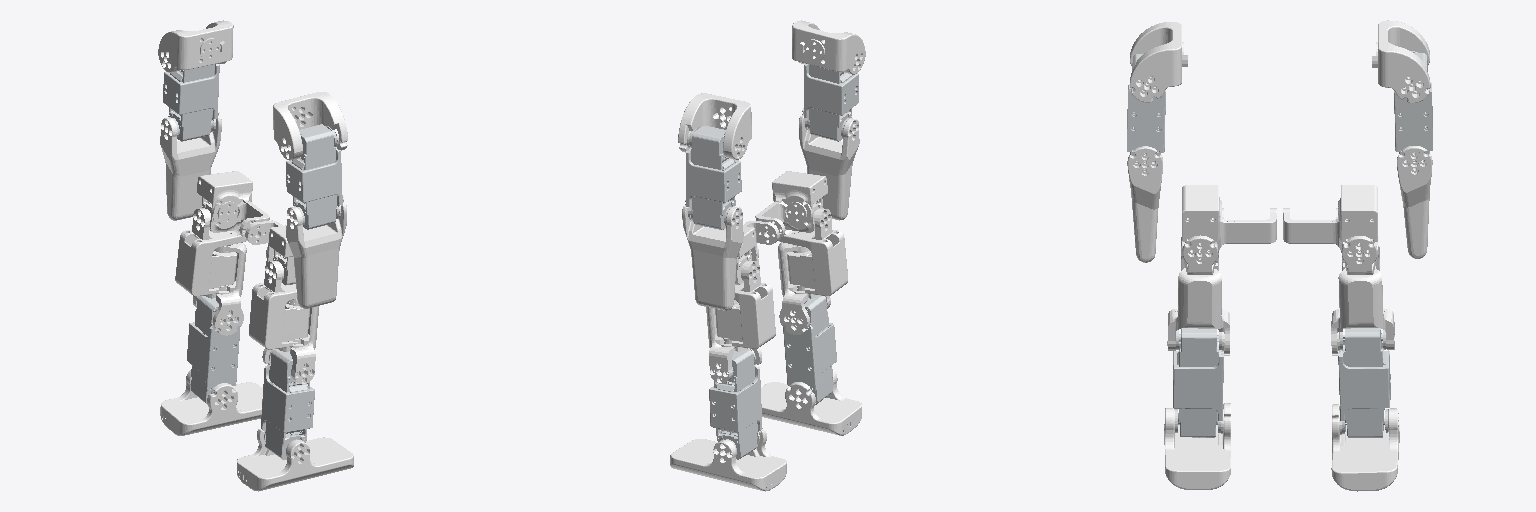
URDF robot description (zeroth01):
<?xml version="1.0" encoding="utf-8"?>
<!-- This URDF was automatically created by SolidWorks to URDF Exporter! Originally created by [author] ([email redacted]) 
     Commit Version: 1.6.0-4-g7f85cfe  Build Version: 1.6.7995.38578
     For more information, please see http://wiki.ros.org/sw_urdf_exporter -->
<robot
  name="zeroth01">
  <link
    name="base_link">
    <inertial>
      <origin
        xyz="0.01073 0.00074718 0.074998"
        rpy="0 0 0" />
      <mass
        value="1.20871" />
      <inertia
        ixx="0.0021088"
        ixy="4.1125E-06"
        ixz="-0.00013101"
        iyy="0.0011389"
        iyz="1.0735E-05"
        izz="0.0014787" />
    </inertial>
    <visual>
      <origin
        xyz="0 0 0"
        rpy="0 0 0" />
      <geometry>
        <mesh
          filename="meshes/base_link.STL" />
      </geometry>
      <material
        name="">
        <color
          rgba="1 1 1 0.35" />
      </material>
    </visual>
    <!-- <collision>
      <origin
        xyz="0 0 0"
        rpy="0 0 0" />
      <geometry>
        <mesh
          filename="meshes/base_link.STL" />
      </geometry>
    </collision>  -->
    <collision>
      <origin
        xyz="0 0 0.1"
        rpy="0 0 0" />
      <geometry>
        <box size="0.16 0.16 0.16"/>
      </geometry>
    </collision>
  </link>
  <link
    name="right_shoulder_pitch">
    <inertial>
      <origin
        xyz="0.00019395 -0.016944 -0.0029649"
        rpy="0 0 0" />
      <mass
        value="0.039021" />
      <inertia
        ixx="9.8855E-06"
        ixy="6.1999E-08"
        ixz="-1.5022E-07"
        iyy="2.1334E-05"
        iyz="-1.6066E-06"
        izz="2.184E-05" />
    </inertial>
    <visual>
      <origin
        xyz="0 0 0"
        rpy="0 0 0" />
      <geometry>
        <mesh
          filename="meshes/right_shoulder_pitch.STL" />
      </geometry>
      <material
        name="">
        <color
          rgba="1 1 1 0.35" />
      </material>
    </visual>
    <collision>
      <origin
        xyz="0 0 0"
        rpy="0 0 0" />
      <geometry>
        <mesh
          filename="meshes/right_shoulder_pitch.STL" />
      </geometry>
    </collision>
  </link>
  <joint
    name="right_shoulder_pitch"
    type="fixed">
    <origin
      xyz="0.016843 -0.07815 0.11864"
      rpy="0 0 0" />
    <parent
      link="base_link" />
    <child
      link="right_shoulder_pitch" />
    <axis
      xyz="0 0 0" />
    <limit
      lower="-1.7453293"
      upper="1.7453293"
      effort="4.9"
      velocity="7.87" />
  </joint>
  <link
    name="right_shoulder_yaw">
    <inertial>
      <origin
        xyz="-0.017649 -1.9152E-06 -0.035546"
        rpy="0 0 0" />
      <mass
        value="0.173404" />
      <inertia
        ixx="2.0194E-05"
        ixy="4.1186E-09"
        ixz="9.5855E-09"
        iyy="2.6723E-05"
        iyz="-7.5942E-09"
        izz="1.8331E-05" />
    </inertial>
    <visual>
      <origin
        xyz="0 0 0"
        rpy="0 0 0" />
      <geometry>
        <mesh
          filename="meshes/right_shoulder_yaw.STL" />
      </geometry>
      <material
        name="">
        <color
          rgba="0.89804 0.91765 0.92941 1" />
      </material>
    </visual>
    <collision>
      <origin
        xyz="0 0 0"
        rpy="0 0 0" />
      <geometry>
        <mesh
          filename="meshes/right_shoulder_yaw.STL" />
      </geometry>
    </collision>
  </link>
  <joint
    name="right_shoulder_yaw"
    type="fixed">
    <origin
      xyz="0.019116 -0.03 -0.015957"
      rpy="-0.024744 -0.01805 0" />
    <parent
      link="right_shoulder_pitch" />
    <child
      link="right_shoulder_yaw" />
    <axis
      xyz="0 0 0" />
    <limit
      lower="-1.134464"
      upper="0.87266463"
      effort="4.9"
      velocity="7.87" />
  </joint>
  <link
    name="right_elbow_yaw">
    <inertial>
      <origin
        xyz="-0.018343 0.0013193 -0.045753"
        rpy="0 0 0" />
      <mass
        value="0.06727" />
      <inertia
        ixx="4.1359E-05"
        ixy="3.3353E-08"
        ixz="-1.4171E-06"
        iyy="5.0741E-05"
        iyz="9.3377E-07"
        izz="1.4193E-05" />
    </inertial>
    <visual>
      <origin
        xyz="0 0 0"
        rpy="0 0 0" />
      <geometry>
        <mesh
          filename="meshes/right_elbow_yaw.STL" />
      </geometry>
      <material
        name="">
        <color
          rgba="1 1 1 0.35" />
      </material>
    </visual>
    <collision>
      <origin
        xyz="0 0 0"
        rpy="0 0 0" />
      <geometry>
        <mesh
          filename="meshes/right_elbow_yaw.STL" />
      </geometry>
    </collision>
  </link>
  <joint
    name="right_elbow_yaw"
    type="fixed">
    <origin
      xyz="-0.00015 0 -0.070993"
      rpy="0 0 0" />
    <parent
      link="right_shoulder_yaw" />
    <child
      link="right_elbow_yaw" />
    <axis
      xyz="0 0 0" />
    <limit
      lower="0"
      upper="0"
      effort="0"
      velocity="0" />
  </joint>
  <link
    name="left_shoulder_pitch">
    <inertial>
      <origin
        xyz="5.1346E-05 0.016944 -0.0029708"
        rpy="0 0 0" />
      <mass
        value="0.039021" />
      <inertia
        ixx="9.8987E-06"
        ixy="1.5222E-08"
        ixz="4.2379E-07"
        iyy="2.1334E-05"
        iyz="1.6077E-06"
        izz="2.1827E-05" />
    </inertial>
    <visual>
      <origin
        xyz="0 0 0"
        rpy="0 0 0" />
      <geometry>
        <mesh
          filename="meshes/left_shoulder_pitch.STL" />
      </geometry>
      <material
        name="">
        <color
          rgba="1 1 1 0.35" />
      </material>
    </visual>
    <collision>
      <origin
        xyz="0 0 0"
        rpy="0 0 0" />
      <geometry>
        <mesh
          filename="meshes/left_shoulder_pitch.STL" />
      </geometry>
    </collision>
  </link>
  <joint
    name="left_shoulder_pitch"
    type="fixed">
    <origin
      xyz="0.016843 0.07815 0.11864"
      rpy="0 0 0" />
    <parent
      link="base_link" />
    <child
      link="left_shoulder_pitch" />
    <axis
      xyz="0 0 0" />
    <limit
      lower="0"
      upper="0"
      effort="0"
      velocity="0" />
  </joint>
  <link
    name="left_shoulder_yaw">
    <inertial>
      <origin
        xyz="-0.017649 1.9147E-06 -0.035546"
        rpy="0 0 0" />
      <mass
        value="0.173404" />
      <inertia
        ixx="2.0194E-05"
        ixy="-4.1178E-09"
        ixz="9.5852E-09"
        iyy="2.6723E-05"
        iyz="7.5933E-09"
        izz="1.8331E-05" />
    </inertial>
    <visual>
      <origin
        xyz="0 0 0"
        rpy="0 0 0" />
      <geometry>
        <mesh
          filename="meshes/left_shoulder_yaw.STL" />
      </geometry>
      <material
        name="">
        <color
          rgba="0.89804 0.91765 0.92941 1" />
      </material>
    </visual>
    <collision>
      <origin
        xyz="0 0 0"
        rpy="0 0 0" />
      <geometry>
        <mesh
          filename="meshes/left_shoulder_yaw.STL" />
      </geometry>
    </collision>
  </link>
  <joint
    name="left_shoulder_yaw"
    type="fixed">
    <origin
      xyz="0.018328 0.03 -0.016856"
      rpy="0.02416 0.029982 0" />
    <parent
      link="left_shoulder_pitch" />
    <child
      link="left_shoulder_yaw" />
    <axis
      xyz="0 0 0" />
    <limit
      lower="0"
      upper="0"
      effort="0"
      velocity="0" />
  </joint>
  <link
    name="left_elbow_yaw">
    <inertial>
      <origin
        xyz="-0.018343 0.00018355 -0.045771"
        rpy="0 0 0" />
      <mass
        value="0.067271" />
      <inertia
        ixx="4.1359E-05"
        ixy="1.3248E-08"
        ixz="-1.4177E-06"
        iyy="5.0763E-05"
        iyz="2.6768E-07"
        izz="1.4171E-05" />
    </inertial>
    <visual>
      <origin
        xyz="0 0 0"
        rpy="0 0 0" />
      <geometry>
        <mesh
          filename="meshes/left_elbow_yaw.STL" />
      </geometry>
      <material
        name="">
        <color
          rgba="1 1 1 0.35" />
      </material>
    </visual>
    <collision>
      <origin
        xyz="0 0 0"
        rpy="0 0 0" />
      <geometry>
        <mesh
          filename="meshes/left_elbow_yaw.STL" />
      </geometry>
    </collision>
  </link>
  <joint
    name="left_elbow_yaw"
    type="fixed">
    <origin
      xyz="-0.00015 0 -0.070993"
      rpy="0 0 0" />
    <parent
      link="left_shoulder_yaw" />
    <child
      link="left_elbow_yaw" />
    <axis
      xyz="0 0 0" />
    <limit
      lower="0"
      upper="0"
      effort="0"
      velocity="0" />
  </joint>
  <link
    name="right_hip_pitch">
    <inertial>
      <origin
        xyz="0.0083414 -0.011997 0.0015388"
        rpy="0 0 0" />
      <mass
        value="0.12623" />
      <inertia
        ixx="2.2354E-05"
        ixy="-5.0396E-07"
        ixz="3.2805E-07"
        iyy="1.7332E-05"
        iyz="3.0622E-06"
        izz="2.0854E-05" />
    </inertial>
    <visual>
      <origin
        xyz="0 0 0"
        rpy="0 0 0" />
      <geometry>
        <mesh
          filename="meshes/right_hip_pitch.STL" />
      </geometry>
      <material
        name="">
        <color
          rgba="1 1 1 0.35" />
      </material>
    </visual>
    <collision>
      <origin
        xyz="0 0 0"
        rpy="0 0 0" />
      <geometry>
        <mesh
          filename="meshes/right_hip_pitch.STL" />
      </geometry>
    </collision>
  </link>
  <joint
    name="right_hip_pitch"
    type="revolute">
    <origin
      xyz="0.016843 -0.04565 -0.03136"
      rpy="0 0 0" />
    <parent
      link="base_link" />
    <child
      link="right_hip_pitch" />
    <axis
      xyz="0 1 0" />
    <limit
      lower="-1.3"
      upper="1.4"
      effort="4.9"
      velocity="7.8" />
  </joint>
  <link
    name="right_hip_yaw">
    <inertial>
      <origin
        xyz="-0.028063 -0.00034696 -0.038573"
        rpy="0 0 0" />
      <mass
        value="0.129657" />
      <inertia
        ixx="2.1533E-05"
        ixy="-2.1217E-07"
        ixz="-6.243E-06"
        iyy="3.3938E-05"
        iyz="-2.483E-07"
        izz="2.1428E-05" />
    </inertial>
    <visual>
      <origin
        xyz="0 0 0"
        rpy="0 0 0" />
      <geometry>
        <mesh
          filename="meshes/right_hip_yaw.STL" />
      </geometry>
      <material
        name="">
        <color
          rgba="1 1 1 0.35" />
      </material>
    </visual>
    <collision>
      <origin
        xyz="0 0 0"
        rpy="0 0 0" />
      <geometry>
        <mesh
          filename="meshes/right_hip_yaw.STL" />
      </geometry>
    </collision>
  </link>
  <joint
    name="right_hip_yaw"
    type="revolute">
    <origin
      xyz="0.024191 -0.01936 -0.014876"
      rpy="0 0.095559 0" />
    <parent
      link="right_hip_pitch" />
    <child
      link="right_hip_yaw" />
    <axis
      xyz="-1 0 0" />
    <limit
      lower="-0.26"
      upper="1.4"
      effort="4.9"
      velocity="7.8" />
  </joint>
  <link
    name="right_hip_roll">
    <inertial>
      <origin
        xyz="0.0058812 0.0010724 0.0018006"
        rpy="0 0 0" />
      <mass
        value="0.024737" />
      <inertia
        ixx="1.6053E-05"
        ixy="1.7806E-07"
        ixz="-2.193E-06"
        iyy="1.2456E-05"
        iyz="7.5172E-07"
        izz="7.5105E-06" />
    </inertial>
    <visual>
      <origin
        xyz="0 0 0"
        rpy="0 0 0" />
      <geometry>
        <mesh
          filename="meshes/right_hip_roll.STL" />
      </geometry>
      <material
        name="">
        <color
          rgba="1 1 1 0.35" />
      </material>
    </visual>
    <collision>
      <origin
        xyz="0 0 0"
        rpy="0 0 0" />
      <geometry>
        <mesh
          filename="meshes/right_hip_roll.STL" />
      </geometry>
    </collision>
  </link>
  <joint
    name="right_hip_roll"
    type="revolute">
    <origin
      xyz="-0.015 -0.00074143 -0.067756"
      rpy="-0.010942 0 0" />
    <parent
      link="right_hip_yaw" />
    <child
      link="right_hip_roll" />
    <axis
      xyz="0 0 1" />
    <limit
      lower="-0.7"
      upper="0.7"
      effort="4.9"
      velocity="7.8" />
  </joint>
  <link
    name="right_knee_pitch">
    <inertial>
      <origin
        xyz="1.8369E-06 -0.017519 -0.038862"
        rpy="0 0 0" />
      <mass
        value="0.176635" />
      <inertia
        ixx="2.8713E-05"
        ixy="-2.1194E-10"
        ixz="4.3711E-09"
        iyy="2.1877E-05"
        iyz="2.7135E-10"
        izz="1.9524E-05" />
    </inertial>
    <visual>
      <origin
        xyz="0 0 0"
        rpy="0 0 0" />
      <geometry>
        <mesh
          filename="meshes/right_knee_pitch.STL" />
      </geometry>
      <material
        name="">
        <color
          rgba="0.89804 0.91765 0.92941 1" />
      </material>
    </visual>
    <collision>
      <origin
        xyz="0 0 0"
        rpy="0 0 0" />
      <geometry>
        <mesh
          filename="meshes/right_knee_pitch.STL" />
      </geometry>
    </collision>
  </link>
  <joint
    name="right_knee_pitch"
    type="revolute">
    <origin
      xyz="-0.0001387 0.018824 -0.02471"
      rpy="0 -0.019786 0.0073677" />
    <parent
      link="right_hip_roll" />
    <child
      link="right_knee_pitch" />
    <axis
      xyz="0 1 0" />
    <limit
      lower="0"
      upper="1.4"
      effort="4.9"
      velocity="7.8" />
  </joint>
  <link
    name="right_ankle_pitch">
    <inertial>
      <origin
        xyz="0.0090992 -0.018602 -0.023295"
        rpy="0 0 0" />
      <mass
        value="0.096561" />
      <inertia
        ixx="2.7686E-05"
        ixy="3.6747E-07"
        ixz="1.5607E-06"
        iyy="7.8895E-05"
        iyz="-9.9419E-07"
        izz="9.4595E-05" />
    </inertial>
    <visual>
      <origin
        xyz="0 0 0"
        rpy="0 0 0" />
      <geometry>
        <mesh
          filename="meshes/right_ankle_pitch.STL" />
      </geometry>
      <material
        name="">
        <color
          rgba="1 1 1 0.35" />
      </material>
    </visual>
    <collision>
      <origin
        xyz="0 0 0"
        rpy="0 0 0" />
      <geometry>
        <mesh
          filename="meshes/right_ankle_pitch.STL" />
      </geometry>
    </collision>
  </link>
  <joint
    name="right_ankle_pitch"
    type="revolute">
    <origin
      xyz="0 0 -0.07772"
      rpy="0 0 0" />
    <parent
      link="right_knee_pitch" />
    <child
      link="right_ankle_pitch" />
    <axis
      xyz="0 -1 0" />
    <limit
      lower="-1.5"
      upper="1.5"
      effort="4.9"
      velocity="7.8" />
  </joint>
  <link
    name="left_hip_pitch">
    <inertial>
      <origin
        xyz="0.01073 0.00074718 0.074998"
        rpy="0 0 0" />
      <mass
        value="0.12623" />
      <inertia
        ixx="0.0021088"
        ixy="4.1125E-06"
        ixz="-0.00013101"
        iyy="0.0011389"
        iyz="1.0735E-05"
        izz="0.0014787" />
    </inertial>
    <visual>
      <origin
        xyz="0 0 0"
        rpy="0 0 0" />
      <geometry>
        <mesh
          filename="meshes/left_hip_pitch.STL" />
      </geometry>
      <material
        name="">
        <color
          rgba="1 1 1 0.35" />
      </material>
    </visual>
    <collision>
      <origin
        xyz="0 0 0"
        rpy="0 0 0" />
      <geometry>
        <mesh
          filename="meshes/left_hip_pitch.STL" />
      </geometry>
    </collision>
  </link>
  <joint
    name="left_hip_pitch"
    type="revolute">
    <origin
      xyz="0.016843 0.04565 -0.03136"
      rpy="0 0 0" />
    <parent
      link="base_link" />
    <child
      link="left_hip_pitch" />
    <axis
      xyz="0 -1 0" />
    <limit
      lower="-1.4"
      upper="1.3"
      effort="4.9"
      velocity="7.8" />
  </joint>
  <link
    name="left_hip_yaw">
    <inertial>
      <origin
        xyz="-0.028063 0.0010741 -0.03856"
        rpy="0 0 0" />
      <mass
        value="0.129657" />
      <inertia
        ixx="2.1533E-05"
        ixy="3.2981E-07"
        ixz="-6.2378E-06"
        iyy="3.3925E-05"
        iyz="4.8393E-07"
        izz="2.1441E-05" />
    </inertial>
    <visual>
      <origin
        xyz="0 0 0"
        rpy="0 0 0" />
      <geometry>
        <mesh
          filename="meshes/left_hip_yaw.STL" />
      </geometry>
      <material
        name="">
        <color
          rgba="1 1 1 0.35" />
      </material>
    </visual>
    <collision>
      <origin
        xyz="0 0 0"
        rpy="0 0 0" />
      <geometry>
        <mesh
          filename="meshes/left_hip_yaw.STL" />
      </geometry>
    </collision>
  </link>
  <joint
    name="left_hip_yaw"
    type="revolute">
    <origin
      xyz="0.024131 0.01936 -0.014973"
      rpy="0 0.099557 0" />
    <parent
      link="left_hip_pitch" />
    <child
      link="left_hip_yaw" />
    <axis
      xyz="-1 0 0" />
    <limit
      lower="-1.4"
      upper="0.26"
      effort="4.9"
      velocity="7.8" />
  </joint>
  <link
    name="left_hip_roll">
    <inertial>
      <origin
        xyz="0.0058598 -0.0021101 0.0017943"
        rpy="0 0 0" />
      <mass
        value="0.024737" />
      <inertia
        ixx="1.6045E-05"
        ixy="-2.4604E-07"
        ixz="-2.2068E-06"
        iyy="1.2464E-05"
        iyz="-7.1007E-07"
        izz="7.5105E-06" />
    </inertial>
    <visual>
      <origin
        xyz="0 0 0"
        rpy="0 0 0" />
      <geometry>
        <mesh
          filename="meshes/left_hip_roll.STL" />
      </geometry>
      <material
        name="">
        <color
          rgba="1 1 1 0.35" />
      </material>
    </visual>
    <collision>
      <origin
        xyz="0 0 0"
        rpy="0 0 0" />
      <geometry>
        <mesh
          filename="meshes/left_hip_roll.STL" />
      </geometry>
    </collision>
  </link>
  <joint
    name="left_hip_roll"
    type="revolute">
    <origin
      xyz="-0.015 0.0029445 -0.067696"
      rpy="0.029795 0 0" />
    <parent
      link="left_hip_yaw" />
    <child
      link="left_hip_roll" />
    <axis
      xyz="0 0 1" />
    <limit
      lower="-0.7"
      upper="0.7"
      effort="4.9"
      velocity="7.8" />
  </joint>
  <link
    name="left_knee_pitch">
    <inertial>
      <origin
        xyz="1.8353E-06 0.017326 -0.038862"
        rpy="0 0 0" />
      <mass
        value="0.176635" />
      <inertia
        ixx="2.8713E-05"
        ixy="2.0956E-10"
        ixz="4.3695E-09"
        iyy="2.1877E-05"
        iyz="-2.7129E-10"
        izz="1.9524E-05" />
    </inertial>
    <visual>
      <origin
        xyz="0 0 0"
        rpy="0 0 0" />
      <geometry>
        <mesh
          filename="meshes/left_knee_pitch.STL" />
      </geometry>
      <material
        name="">
        <color
          rgba="0.89804 0.91765 0.92941 1" />
      </material>
    </visual>
    <collision>
      <origin
        xyz="0 0 0"
        rpy="0 0 0" />
      <geometry>
        <mesh
          filename="meshes/left_knee_pitch.STL" />
      </geometry>
    </collision>
  </link>
  <joint
    name="left_knee_pitch"
    type="revolute">
    <origin
      xyz="-0.00049516 -0.019745 -0.024716"
      rpy="0 -0.03867 -0.026306" />
    <parent
      link="left_hip_roll" />
    <child
      link="left_knee_pitch" />
    <axis
      xyz="0 -1 0" />
    <limit
      lower="-1.4"
      upper="0"
      effort="4.9"
      velocity="7.8" />
  </joint>
  <link
    name="left_ankle_pitch">
    <inertial>
      <origin
        xyz="0.0075029 0.018688 -0.024207"
        rpy="0 0 0" />
      <mass
        value="0.096566" />
      <inertia
        ixx="2.7919E-05"
        ixy="-5.5369E-07"
        ixz="4.203E-06"
        iyy="7.8888E-05"
        iyz="9.1412E-07"
        izz="9.439E-05" />
    </inertial>
    <visual>
      <origin
        xyz="0 0 0"
        rpy="0 0 0" />
      <geometry>
        <mesh
          filename="meshes/left_ankle_pitch.STL" />
      </geometry>
      <material
        name="">
        <color
          rgba="1 1 1 0.35" />
      </material>
    </visual>
    <collision>
      <origin
        xyz="0 0 0"
        rpy="0 0 0" />
      <geometry>
        <mesh
          filename="meshes/left_ankle_pitch.STL" />
      </geometry>
    </collision>
  </link>
  <joint
    name="left_ankle_pitch"
    type="revolute">
    <origin
      xyz="0 -0.00049999 -0.07772"
      rpy="0 0 0" />
    <parent
      link="left_knee_pitch" />
    <child
      link="left_ankle_pitch" />
    <axis
      xyz="0 1 0" />
    <limit
      lower="-1.5"
      upper="1.5"
      effort="4.9"
      velocity="7.8" />
  </joint>
</robot>

--- Facts derived from the render (not from the file) ---
Views: 3 orthographic renders of the robot side by side, from view 1: azimuth 30°, elevation 25°; view 2: azimuth 150°, elevation 25°; view 3: azimuth 270°, elevation 25°.
Robot: zeroth01 — 17 links, 16 joints (10 revolute, 6 fixed); root link base_link; default pose: every joint at zero.
Visible links, largest first — view 1: right_shoulder_yaw, right_elbow_yaw, right_ankle_pitch, right_knee_pitch, left_ankle_pitch, left_hip_yaw, left_elbow_yaw, right_hip_yaw, left_knee_pitch, left_shoulder_yaw, right_shoulder_pitch, left_hip_pitch (+4 smaller); view 2: left_shoulder_yaw, left_elbow_yaw, left_ankle_pitch, left_knee_pitch, right_hip_yaw, right_ankle_pitch, right_knee_pitch, right_elbow_yaw, left_hip_yaw, right_shoulder_yaw, left_shoulder_pitch, right_hip_pitch (+4 smaller); view 3: left_knee_pitch, right_knee_pitch, left_ankle_pitch, right_ankle_pitch, left_hip_pitch, right_hip_pitch, left_shoulder_pitch, right_shoulder_pitch, left_hip_roll, right_hip_roll, right_elbow_yaw, left_elbow_yaw (+4 smaller).
Boxes of the visible links, box(x1,y1,x2,y2) form: right_shoulder_yaw: box(286, 124, 342, 229); right_elbow_yaw: box(286, 197, 346, 308); right_ankle_pitch: box(237, 429, 353, 491); right_knee_pitch: box(261, 349, 314, 459); left_ankle_pitch: box(160, 370, 262, 435); left_hip_yaw: box(175, 208, 246, 296); left_elbow_yaw: box(160, 110, 221, 220); right_hip_yaw: box(249, 261, 309, 349); left_knee_pitch: box(187, 296, 240, 404); left_shoulder_yaw: box(163, 64, 219, 141); right_shoulder_pitch: box(273, 92, 347, 160); left_hip_pitch: box(197, 171, 269, 239); left_shoulder_yaw: box(686, 125, 741, 229); left_elbow_yaw: box(682, 200, 743, 310); left_ankle_pitch: box(670, 430, 786, 491); left_knee_pitch: box(709, 348, 762, 459); right_hip_yaw: box(778, 208, 847, 295); right_ankle_pitch: box(761, 370, 861, 435); right_knee_pitch: box(783, 296, 836, 404); right_elbow_yaw: box(799, 108, 859, 220); left_hip_yaw: box(715, 260, 775, 348); right_shoulder_yaw: box(804, 63, 858, 141); left_shoulder_pitch: box(678, 93, 751, 159); right_hip_pitch: box(755, 171, 827, 239); left_knee_pitch: box(1338, 328, 1390, 437); right_knee_pitch: box(1173, 328, 1223, 437); left_ankle_pitch: box(1331, 404, 1399, 491); right_ankle_pitch: box(1164, 403, 1230, 489); left_hip_pitch: box(1283, 185, 1377, 258); right_hip_pitch: box(1182, 185, 1276, 258); left_shoulder_pitch: box(1372, 20, 1430, 102); right_shoulder_pitch: box(1130, 22, 1187, 102); left_hip_roll: box(1331, 268, 1394, 355); right_hip_roll: box(1167, 268, 1229, 355); right_elbow_yaw: box(1127, 146, 1162, 262); left_elbow_yaw: box(1397, 146, 1432, 258).
Size in the robot's own frame: 0.1009 by 0.25 by 0.3869 metres.
Meshes: 17 distinct files referenced, 16 mesh visuals loaded (16 binary STL); not drawn: 1 (reference not matched to a file when rendering).
